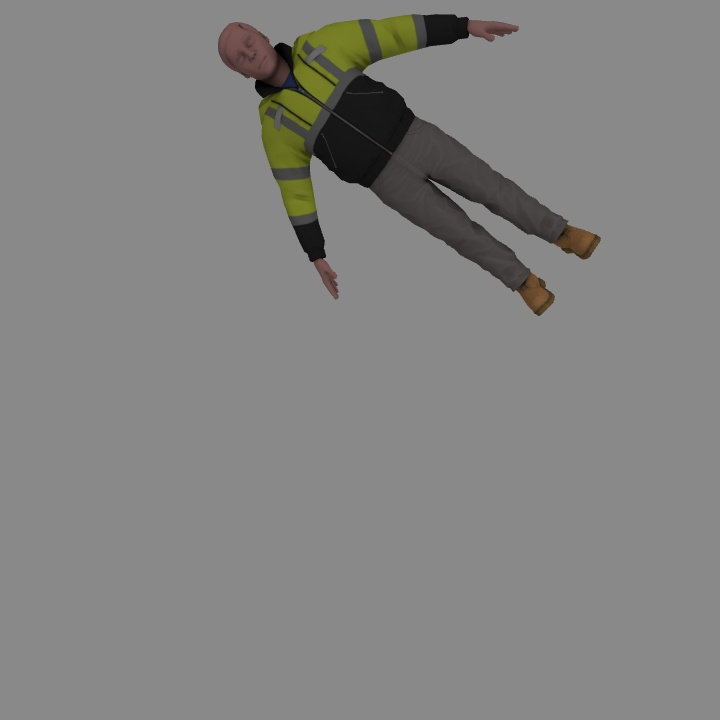victim: (218, 21, 600, 313)
